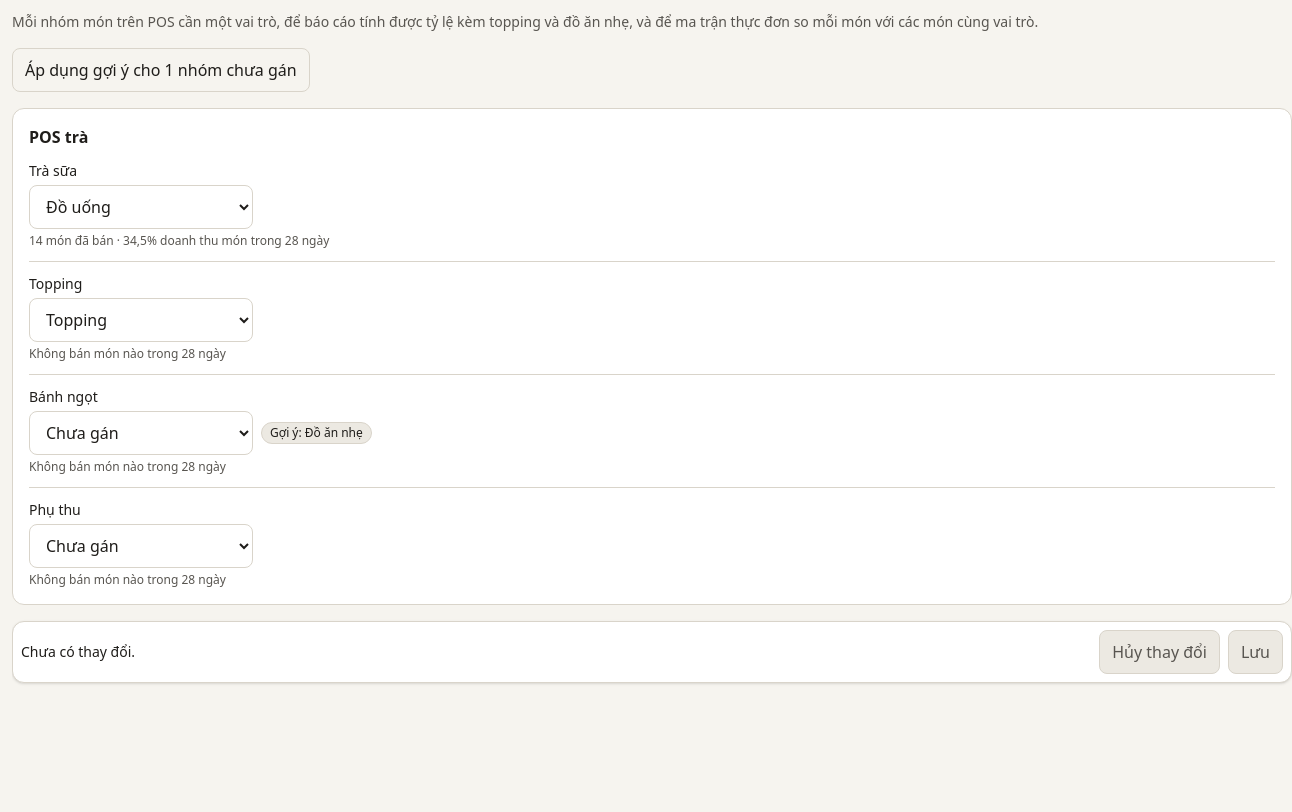
Test: RolesForm › shows a suggestion next to an unassigned type and fills it only on request
The width and height of the screenshot is (1292, 812).
Expected: the number of elements with test id "role-suggestion" is 1, [261,422,372,444]
Expected: the dropdown labelled "Bánh ngọt" shows "Chưa gán", [29,411,253,455]
Click the button "Áp dụng gợi ý cho 1 nhóm chưa gán". click: coordinates (161, 70)
box: [12,48,310,92]
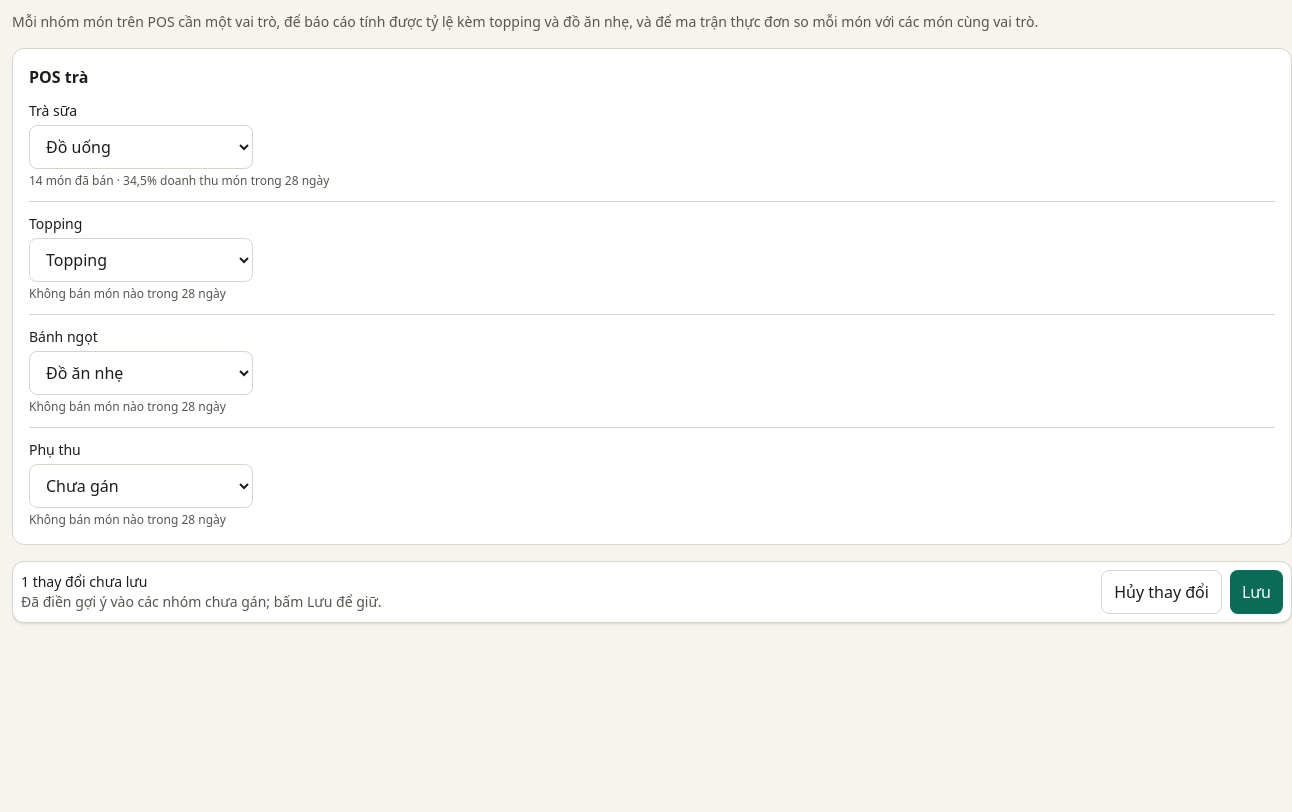
Expected: the dropdown labelled "Bánh ngọt" shows "Đồ ăn nhẹ", [29,351,253,395]
Expected: the button with test id "roles-apply-suggestions" is gone
Expected: the message with test id "settings-save-bar-status" shows "bấm Lưu để giữ", [21,592,382,611]
